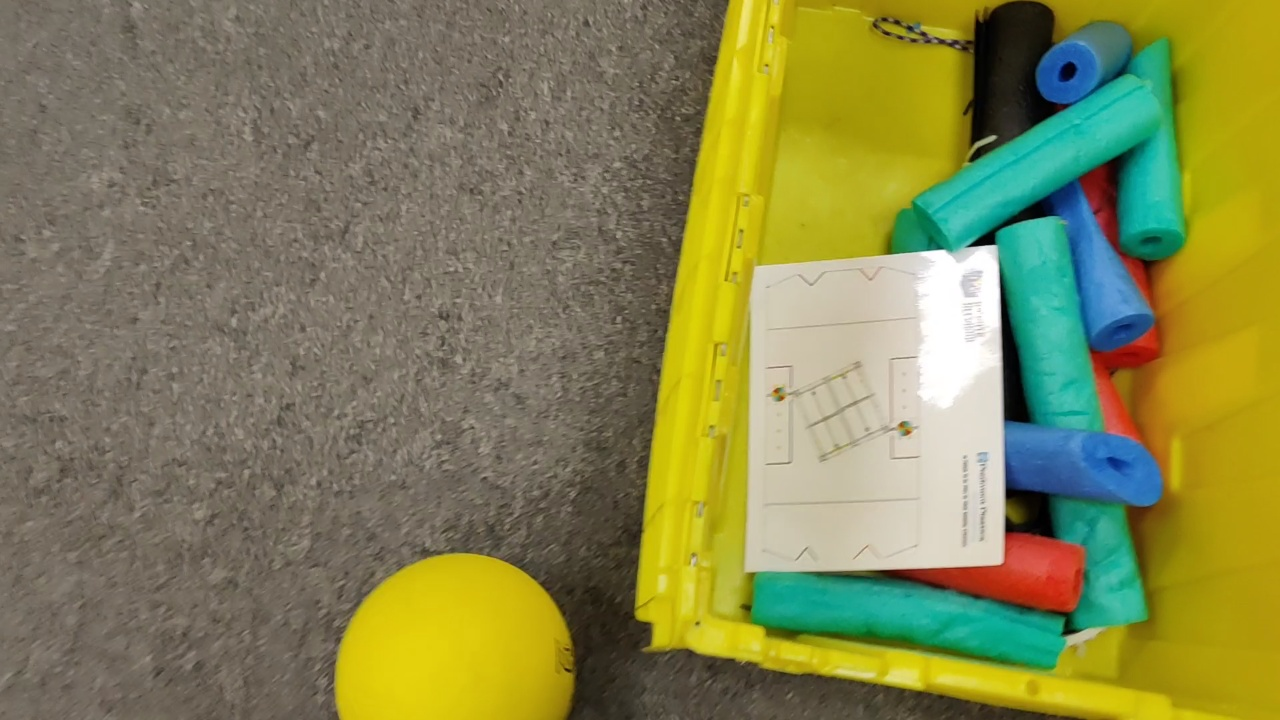Ball: (334, 553, 576, 720)
